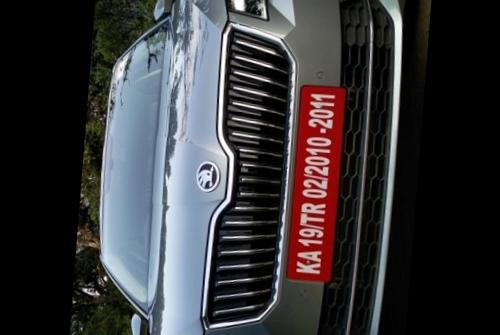plate: (270, 71, 368, 289)
